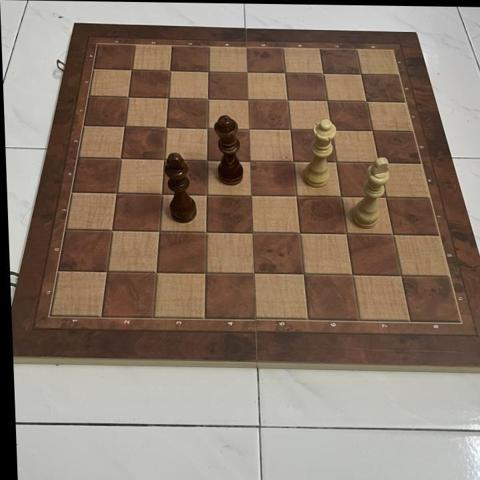xcorner: (199, 62, 217, 79), (239, 90, 256, 108), (159, 89, 177, 106), (281, 121, 299, 138), (154, 184, 171, 202), (291, 225, 309, 242), (104, 221, 122, 238), (392, 268, 410, 285), (352, 66, 369, 83), (314, 65, 331, 82), (276, 64, 293, 81), (238, 63, 255, 80), (161, 61, 178, 78), (123, 60, 140, 77), (358, 93, 375, 110), (318, 92, 335, 109), (279, 91, 296, 108), (199, 90, 216, 107), (120, 88, 137, 105), (364, 123, 381, 140), (323, 122, 340, 139), (240, 120, 257, 137), (199, 119, 216, 136), (158, 118, 175, 135), (116, 117, 133, 134), (370, 155, 387, 172), (327, 154, 344, 171), (285, 153, 302, 170), (242, 152, 259, 169), (199, 151, 216, 168), (156, 150, 173, 167), (113, 149, 130, 166), (377, 189, 394, 206), (332, 188, 349, 205), (288, 187, 305, 204), (243, 186, 260, 203), (199, 185, 216, 202), (109, 184, 126, 201), (384, 227, 401, 244), (338, 226, 355, 243), (245, 224, 262, 241), (198, 223, 215, 240), (151, 222, 168, 239), (344, 267, 361, 284), (295, 266, 312, 283), (247, 265, 264, 282), (198, 264, 215, 281), (149, 263, 166, 280), (100, 262, 117, 279)
